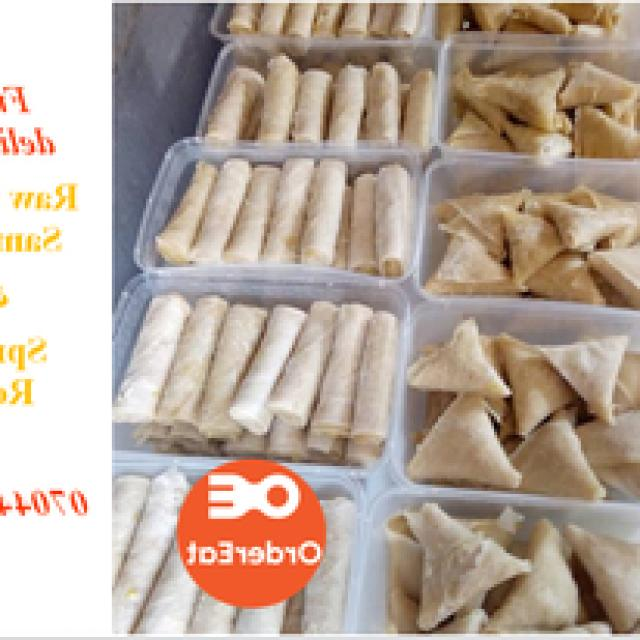Samosa: (405, 0, 638, 640)
Spring Rolls: (118, 0, 434, 460)
